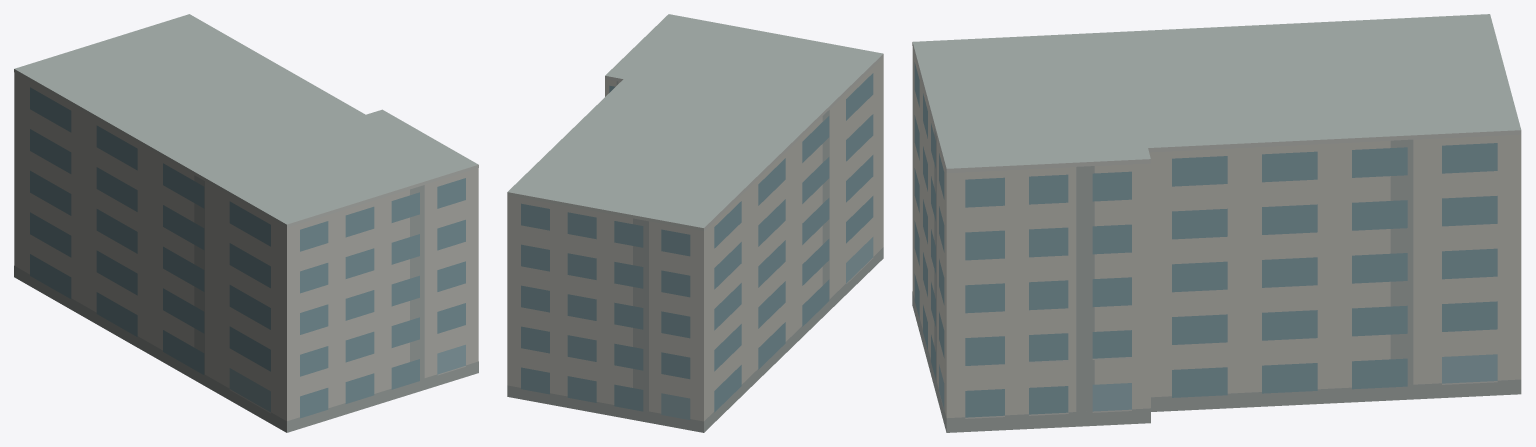
The model's file is residential-d9f229ae-4268-4c74-8571-57d60d295036.glb.
3 views of the same model, side by side, from view 1: azimuth 30°, elevation 25°; view 2: azimuth 150°, elevation 25°; view 3: azimuth 270°, elevation 25° (orthographic). The views are drawn at different scales.
Parts seen in each view (by area): view 1: residential-d9f229ae-4268-4c74-8571-57d60d295036.tmp; view 2: residential-d9f229ae-4268-4c74-8571-57d60d295036.tmp; view 3: residential-d9f229ae-4268-4c74-8571-57d60d295036.tmp.
Boxes of the visible parts, x1,y1,x2,y2 form: residential-d9f229ae-4268-4c74-8571-57d60d295036.tmp: (14,14,478,432); residential-d9f229ae-4268-4c74-8571-57d60d295036.tmp: (507,14,883,432); residential-d9f229ae-4268-4c74-8571-57d60d295036.tmp: (912,14,1521,432).
Size of the model in its own units: 19.18 by 15.25 by 31.87.
